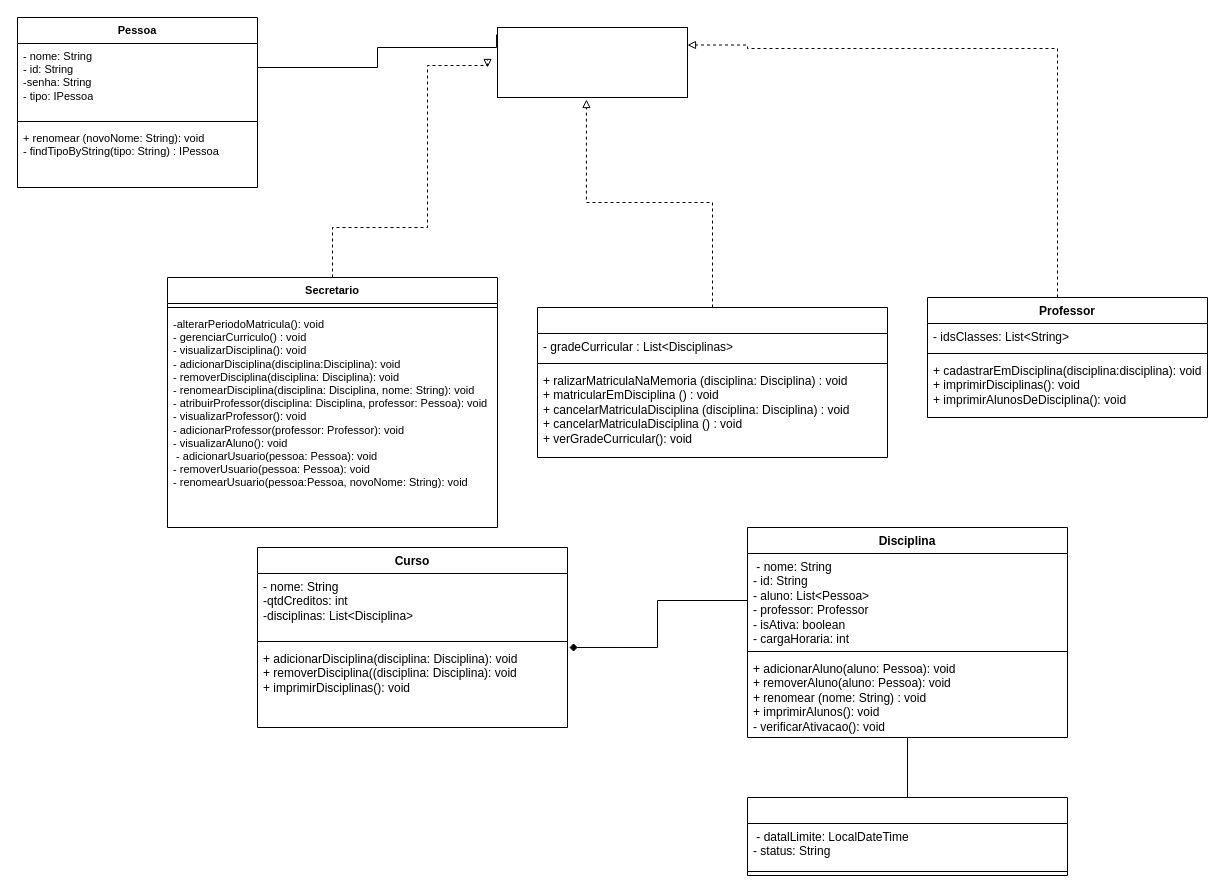
The diagram is 1225 pixels wide and 893 high, and some of its shapes have lost their labels. Here are the shapes that lost their labels. From the top down, the box of each, then its label:
(496, 26, 688, 98): <<Interface>> IPessoa + exibirMenu(): void
(536, 306, 888, 458): Aluno
(746, 796, 1068, 876): Matrícula
